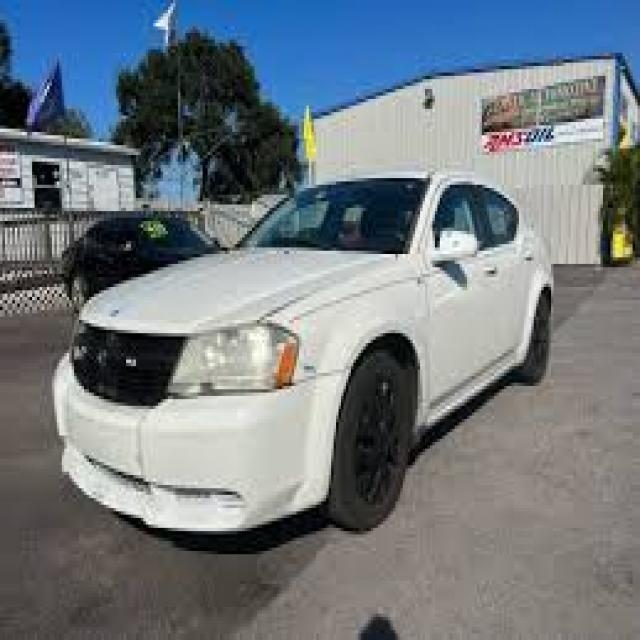minor: (148, 436, 318, 522)
